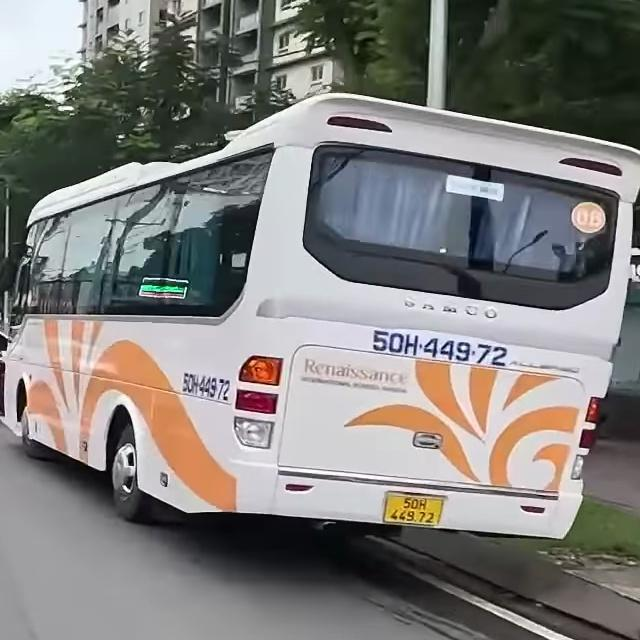license-plate: (383, 492, 445, 526)
